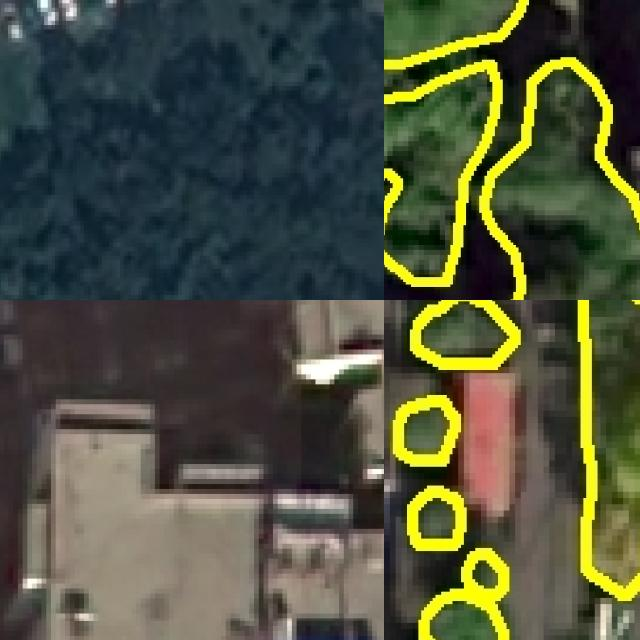trees: (1, 1, 385, 301), (483, 61, 640, 301), (385, 63, 499, 283), (582, 301, 640, 596), (385, 1, 525, 66), (422, 552, 505, 640), (414, 301, 516, 368), (397, 399, 456, 462), (411, 490, 462, 546)
